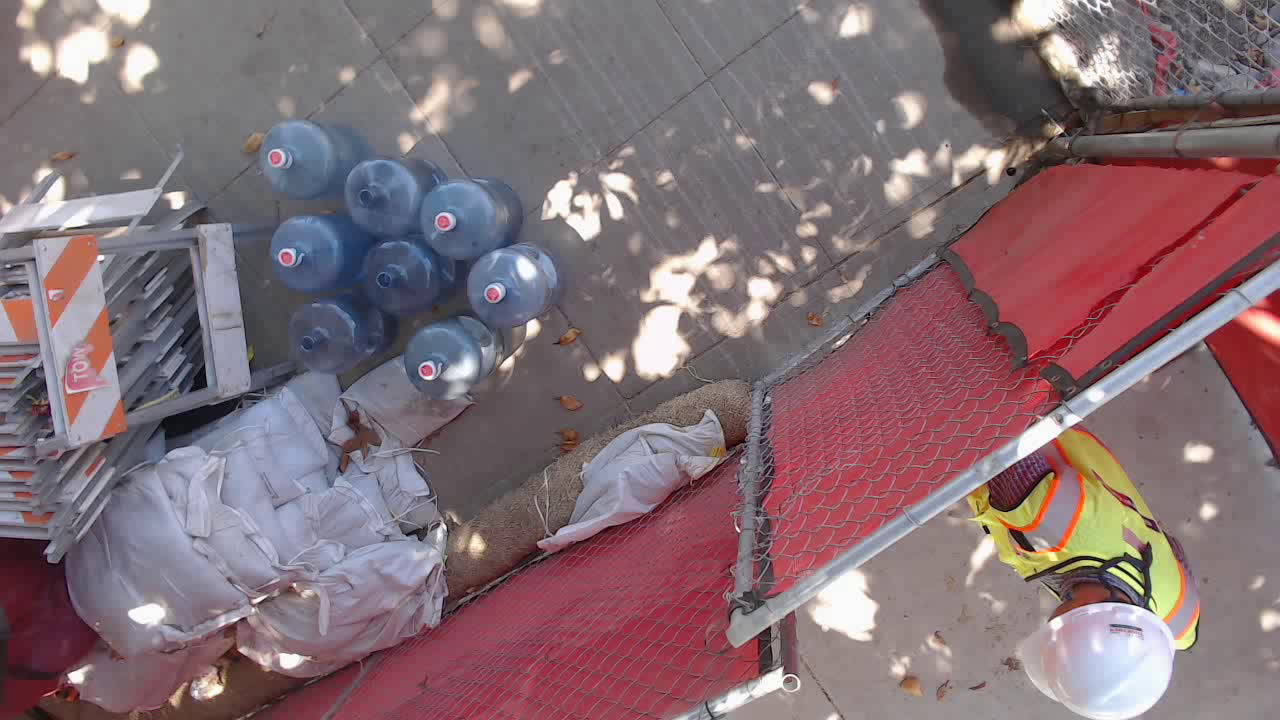hardhat: (1015, 602, 1178, 719)
safetyvest: (961, 419, 1203, 655)
